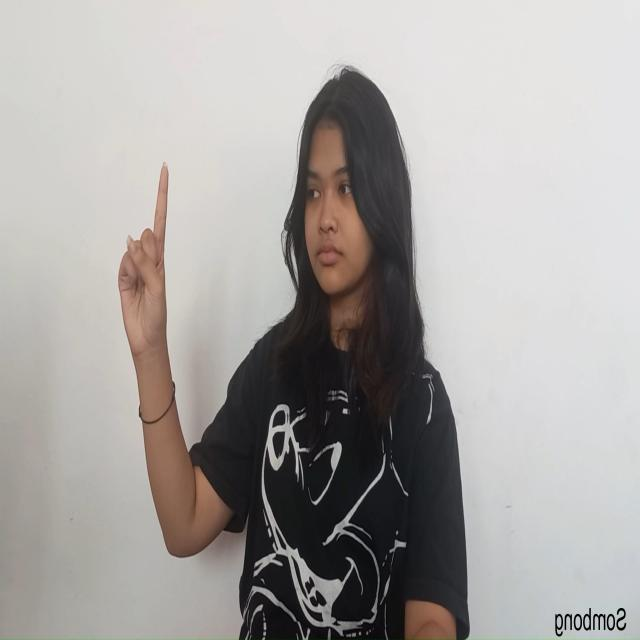Sombong -BISINDO-: (116, 157, 172, 369)
